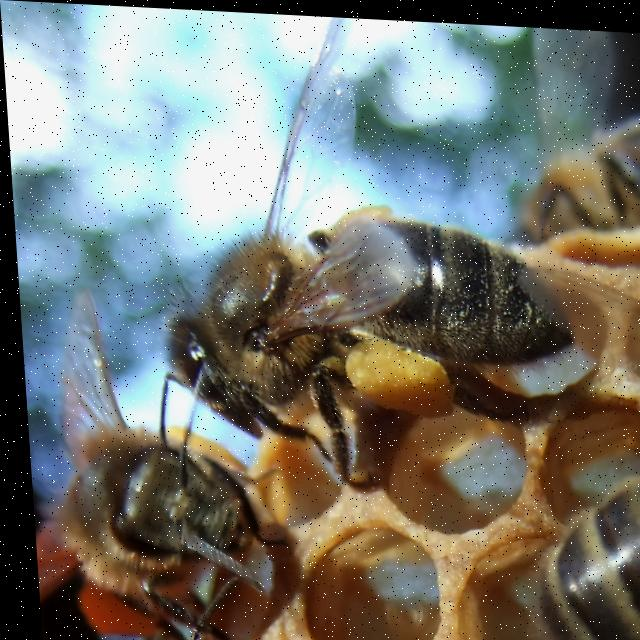Apis-mellifera-scutellata: (133, 163, 593, 498)
